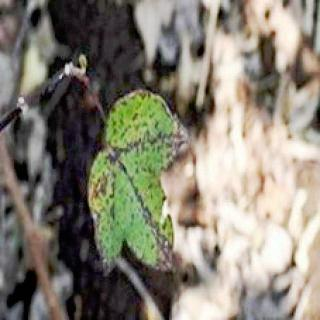leaf spot: (90, 86, 193, 278)
